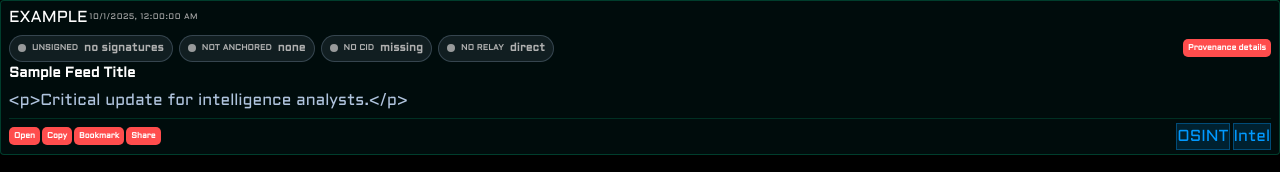
Test: FeedItem social sharing › displays feedback message after sharing
Click the button with test id "feed-share-btn" at x=144, y=136, box left=126, top=128, right=161, bottom=146
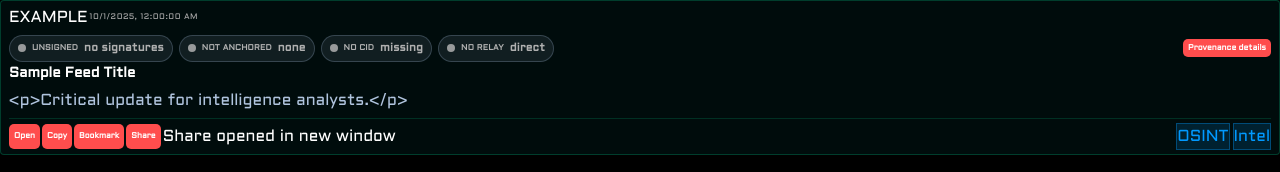
Now the message reads "Share opened in new window", box left=163, top=129, right=396, bottom=144
